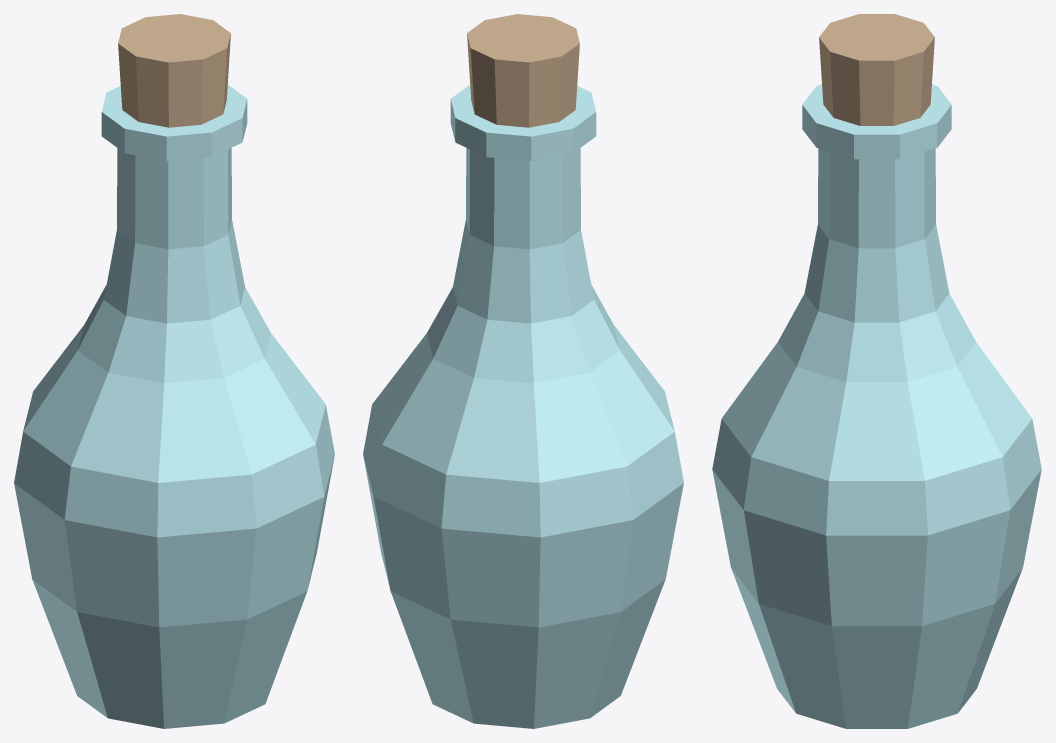
File: magic-potion.glb
3 views of the same model, side by side, from view 1: azimuth 30°, elevation 25°; view 2: azimuth 150°, elevation 25°; view 3: azimuth 270°, elevation 25° (orthographic).
Parts seen in each view (by area): view 1: Bottle_08; view 2: Bottle_08; view 3: Bottle_08.
Part boxes in pixels (x1,y1,x2,y2): Bottle_08: (14,14,334,728); Bottle_08: (363,14,683,728); Bottle_08: (712,14,1041,728).
Bounding box in the file's own units: 0.0274 × 0.0629 × 0.0288.
